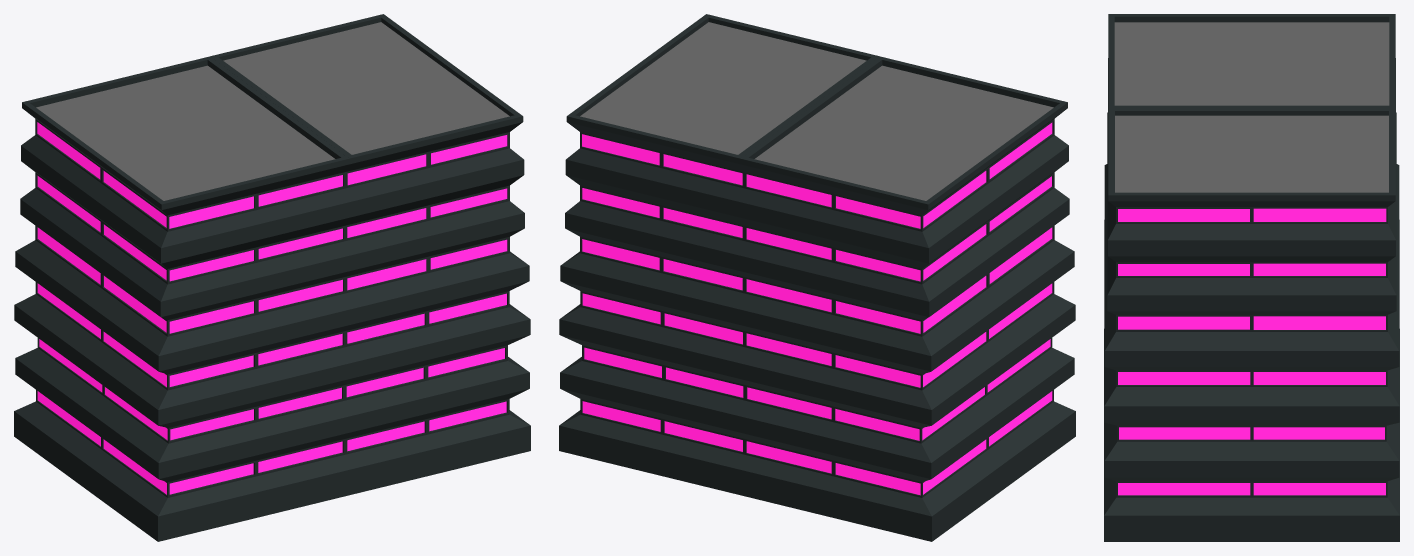
The model's file is PINKDIHOREAH.fbx.
3 renders of one model, left to right at view 1: azimuth 30°, elevation 25°; view 2: azimuth 150°, elevation 25°; view 3: azimuth 270°, elevation 25°, orthographic. The views are drawn at different scales.
Parts seen in each view (by area): view 1: building 1.001; view 2: building 1.001; view 3: building 1.001.
Part boxes in pixels (box(x1,y1,x2,y2)): building 1.001: box(14, 14, 530, 541); building 1.001: box(559, 14, 1075, 541); building 1.001: box(1104, 14, 1399, 541).
Bounding box in the file's own units: 731 × 627 × 489.
